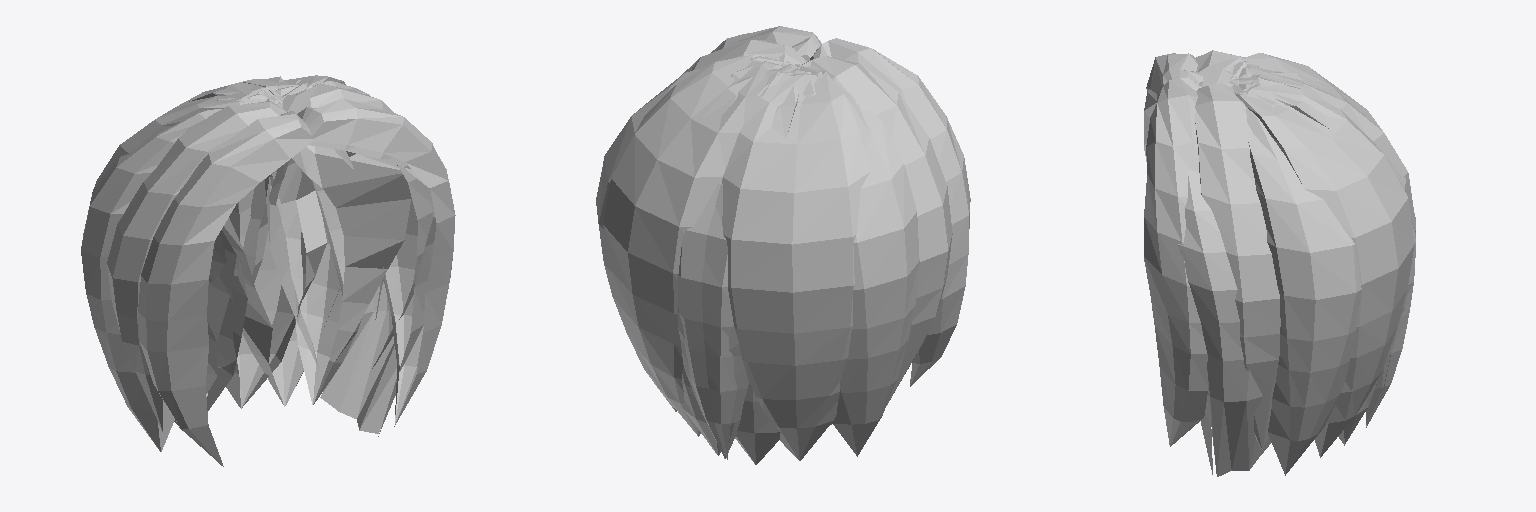
The model's file is hair2.obj.
3 renders of one model, left to right at view 1: azimuth 30°, elevation 25°; view 2: azimuth 150°, elevation 25°; view 3: azimuth 270°, elevation 25°, orthographic.
Visible parts, largest first — view 1: hair3_mesh.016_hair3.017, hair3_mesh.017_hair3.018, hair3_mesh.015_hair3.016, hair3_mesh_hair3.001, hair3_mesh.026_hair3.027, hair3_mesh.001_hair3.002, hair3_mesh.020_hair3.021, hair3_mesh.024_hair3.025, hair3_mesh.018_hair3.019, hair3_mesh.019_hair3.020, hair3_mesh.022_hair3.023, hair3_mesh.021_hair3.022 (+1 smaller); view 2: hair3_mesh.024_hair3.025, hair3_mesh.019_hair3.020, hair3_mesh.026_hair3.027, hair3_mesh_hair3.001, hair3_mesh.016_hair3.017, hair3_mesh.022_hair3.023, hair3_mesh.027_hair3.028, hair3_mesh.021_hair3.022, hair3_mesh.025_hair3.026, hair3_mesh.015_hair3.016, hair3_mesh.018_hair3.019, hair3_mesh.020_hair3.021; view 3: hair3_mesh.021_hair3.022, hair3_mesh.019_hair3.020, hair3_mesh.015_hair3.016, hair3_mesh.018_hair3.019, hair3_mesh.001_hair3.002, hair3_mesh.024_hair3.025, hair3_mesh.016_hair3.017, hair3_mesh.027_hair3.028, hair3_mesh.022_hair3.023, hair3_mesh_hair3.001, hair3_mesh.020_hair3.021.
Boxes of the visible parts, <box> form: hair3_mesh.016_hair3.017: <box>138,111,312,466</box>; hair3_mesh.017_hair3.018: <box>272,145,410,404</box>; hair3_mesh.015_hair3.016: <box>297,98,455,426</box>; hair3_mesh_hair3.001: <box>107,99,286,431</box>; hair3_mesh.026_hair3.027: <box>81,96,277,451</box>; hair3_mesh.001_hair3.002: <box>309,141,447,436</box>; hair3_mesh.020_hair3.021: <box>209,79,326,408</box>; hair3_mesh.024_hair3.025: <box>95,81,273,431</box>; hair3_mesh.018_hair3.019: <box>279,83,432,368</box>; hair3_mesh.019_hair3.020: <box>222,75,345,406</box>; hair3_mesh.022_hair3.023: <box>189,87,288,282</box>; hair3_mesh.021_hair3.022: <box>265,81,383,370</box>; hair3_mesh.024_hair3.025: <box>722,68,869,460</box>; hair3_mesh.019_hair3.020: <box>603,54,786,436</box>; hair3_mesh.026_hair3.027: <box>790,64,919,456</box>; hair3_mesh_hair3.001: <box>797,56,952,404</box>; hair3_mesh.016_hair3.017: <box>810,38,970,386</box>; hair3_mesh.022_hair3.023: <box>678,69,798,459</box>; hair3_mesh.027_hair3.028: <box>678,65,793,458</box>; hair3_mesh.021_hair3.022: <box>596,56,792,411</box>; hair3_mesh.025_hair3.026: <box>735,69,815,464</box>; hair3_mesh.015_hair3.016: <box>711,26,821,61</box>; hair3_mesh.018_hair3.019: <box>682,40,806,74</box>; hair3_mesh.020_hair3.021: <box>682,61,782,455</box>; hair3_mesh.021_hair3.022: <box>1230,81,1361,475</box>; hair3_mesh.019_hair3.020: <box>1235,79,1414,457</box>; hair3_mesh.015_hair3.016: <box>1144,78,1207,446</box>; hair3_mesh.018_hair3.019: <box>1195,83,1280,449</box>; hair3_mesh.001_hair3.002: <box>1178,169,1271,476</box>; hair3_mesh.024_hair3.025: <box>1230,53,1413,207</box>; hair3_mesh.016_hair3.017: <box>1144,53,1203,161</box>; hair3_mesh.027_hair3.028: <box>1250,75,1415,427</box>; hair3_mesh.022_hair3.023: <box>1229,72,1415,424</box>; hair3_mesh_hair3.001: <box>1195,50,1244,86</box>; hair3_mesh.020_hair3.021: <box>1239,83,1379,445</box>.
Bounding box in the file's own units: 3.74 × 3.99 × 2.73.